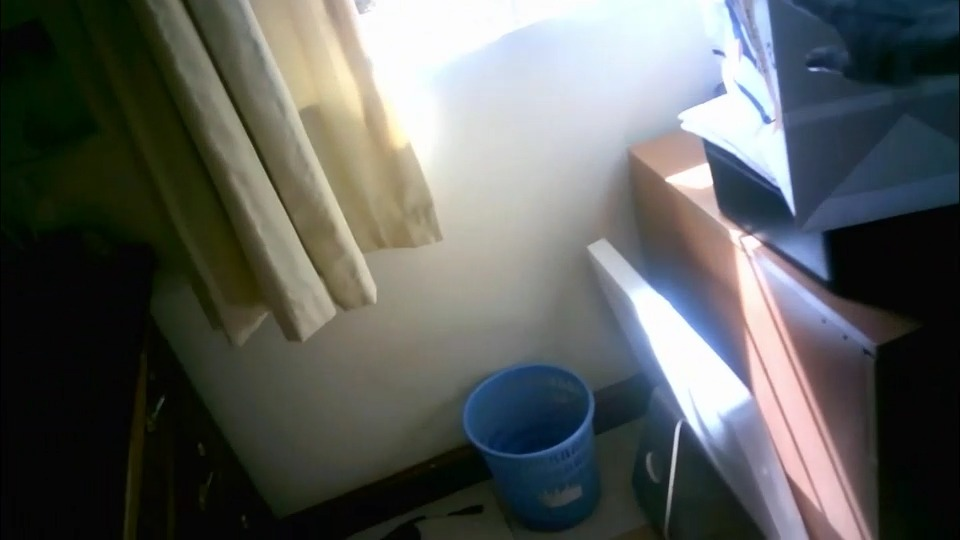wheat_flour_blue_label: (715, 3, 957, 229)
